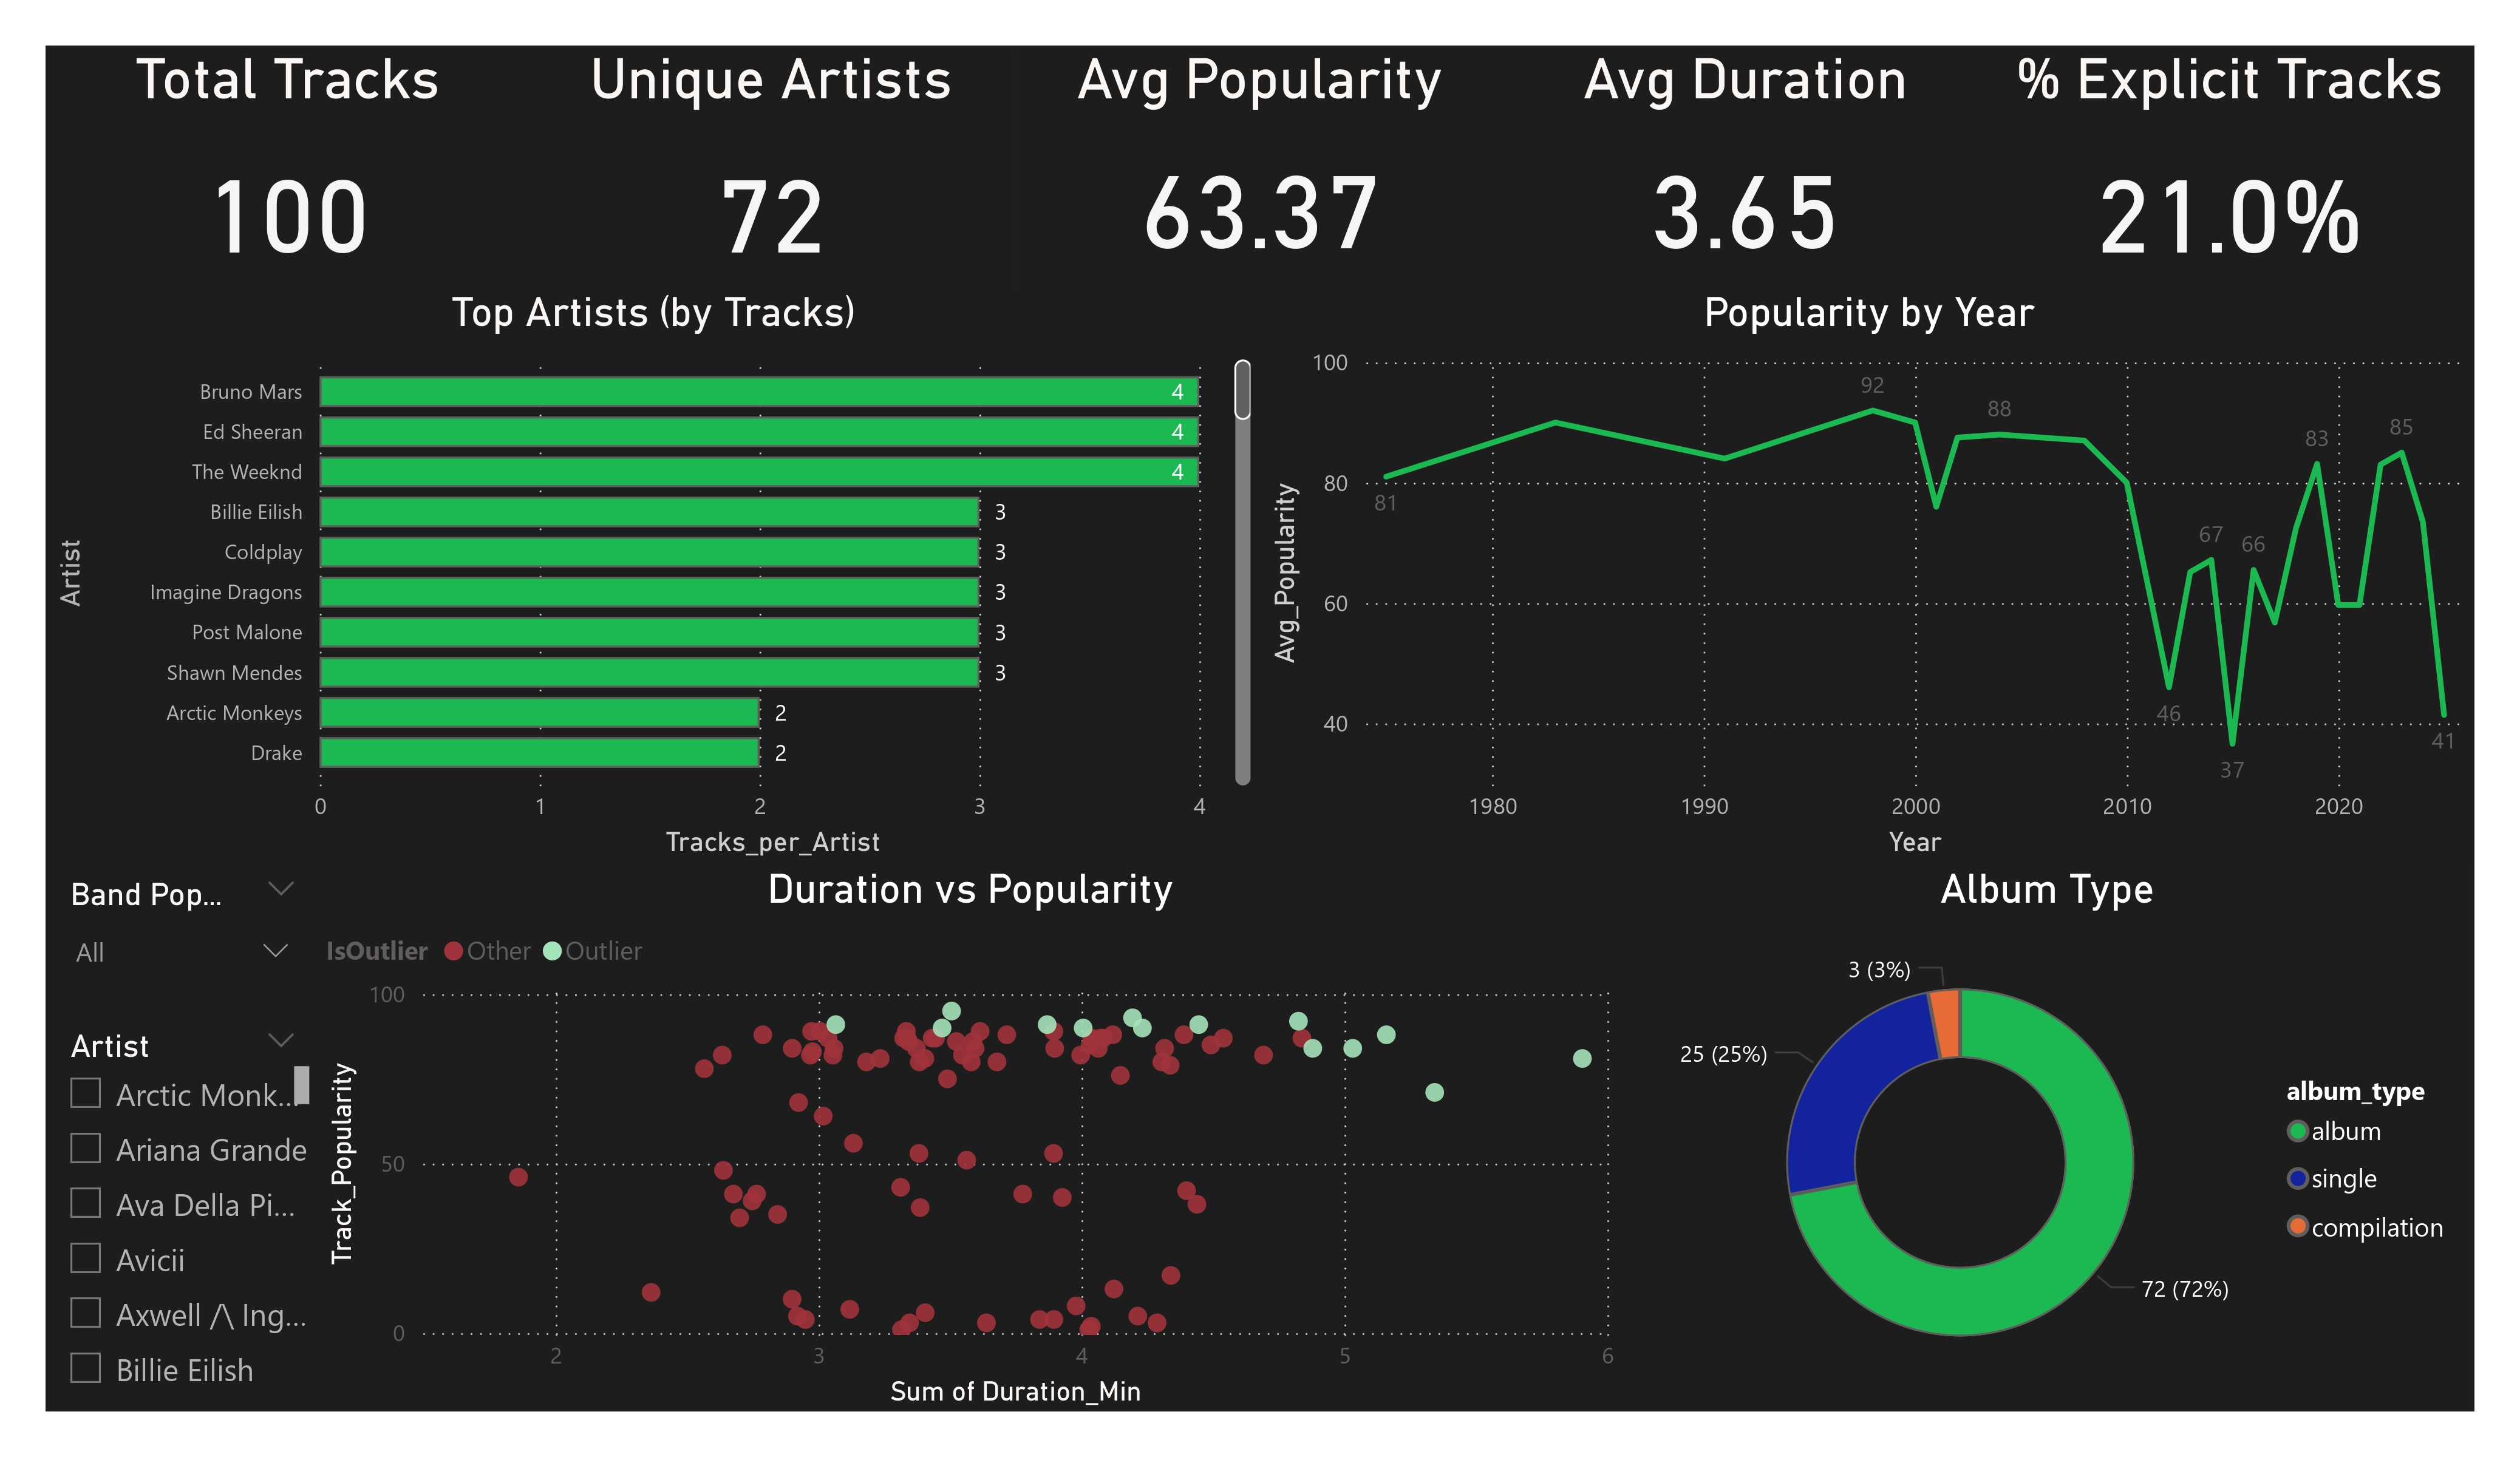

Layout of this report page (visuals, bound fields, positions):
{"tool":"powerbi","page":{"name":"Page 1","canvas":[1280,720],"ordinal":0},"visuals":[{"type":"slicer","fields":{"Values":["Tracks.artist"]},"box":[0,512,144,208],"z":0},{"type":"slicer","fields":{"Values":["Tracks.Popularity_Band"]},"box":[0,431.7,143.3,81.7],"z":2000},{"type":"card","title":"Total Tracks","fields":{"Values":["Tracks.Total_Tracks"]},"box":[0,0,254.9,132.4],"z":3000},{"type":"card","title":"Unique Artists","fields":{"Values":["Tracks.Unique_Artists"]},"box":[254.9,0,254.9,132.4],"z":4000},{"type":"card","title":"Avg Popularity","fields":{"Values":["Tracks.Avg_Popularity"]},"box":[512,0,256,132],"z":5000},{"type":"card","title":"Avg Duration","fields":{"Values":["Tracks.Avg_Duration_Min"]},"box":[768.8,0,255.2,132],"z":6000},{"type":"lineChart","title":"Popularity by Year","fields":{"Category":["Tracks.release_date.Variation.Date Hierarchy.Year"],"Y":["Tracks.Avg_Popularity"]},"box":[640.4,131.6,642,302.3],"z":7000},{"type":"barChart","title":"Top Artists (by Tracks)","fields":{"Category":["Tracks.artist"],"Y":["Tracks.Tracks_per_Artist"]},"box":[0,131.6,640.4,302.3],"z":8000},{"type":"donutChart","title":"Album Type","fields":{"Category":["Tracks.album_type"],"Y":["Tracks.Total_Tracks"]},"box":[832.1,434,448.6,287.7],"z":9000},{"type":"scatterChart","title":"Duration vs Popularity","fields":{"Y":["Tracks.Track_Popularity"],"X":["Tracks.Duration_Min"],"Series":["Tracks.IsOutlier"],"Category":["Tracks.track_name"]},"box":[143,432.3,689.1,290.9],"z":10000},{"type":"card","title":"% Explicit Tracks","fields":{"Values":["Tracks.Explicit_Tracks_Pct"]},"box":[1022.9,0,256.6,132.4],"z":11000}]}

Visuals, with their boxes on the page's 1280x720 design canvas (x1, y1, x2, y2). These are canvas units, not pixel positions in the 2520x1457 screenshot, which may show the page scaled, cropped or inside an application window:
slicer - Tracks.artist: rect(0, 512, 144, 720)
slicer - Tracks.Popularity_Band: rect(0, 432, 143, 513)
"Total Tracks" card: rect(0, 0, 255, 132)
"Unique Artists" card: rect(255, 0, 510, 132)
"Avg Popularity" card: rect(512, 0, 768, 132)
"Avg Duration" card: rect(769, 0, 1024, 132)
"Popularity by Year" lineChart: rect(640, 132, 1282, 434)
"Top Artists (by Tracks)" barChart: rect(0, 132, 640, 434)
"Album Type" donutChart: rect(832, 434, 1281, 722)
"Duration vs Popularity" scatterChart: rect(143, 432, 832, 723)
"% Explicit Tracks" card: rect(1023, 0, 1280, 132)
